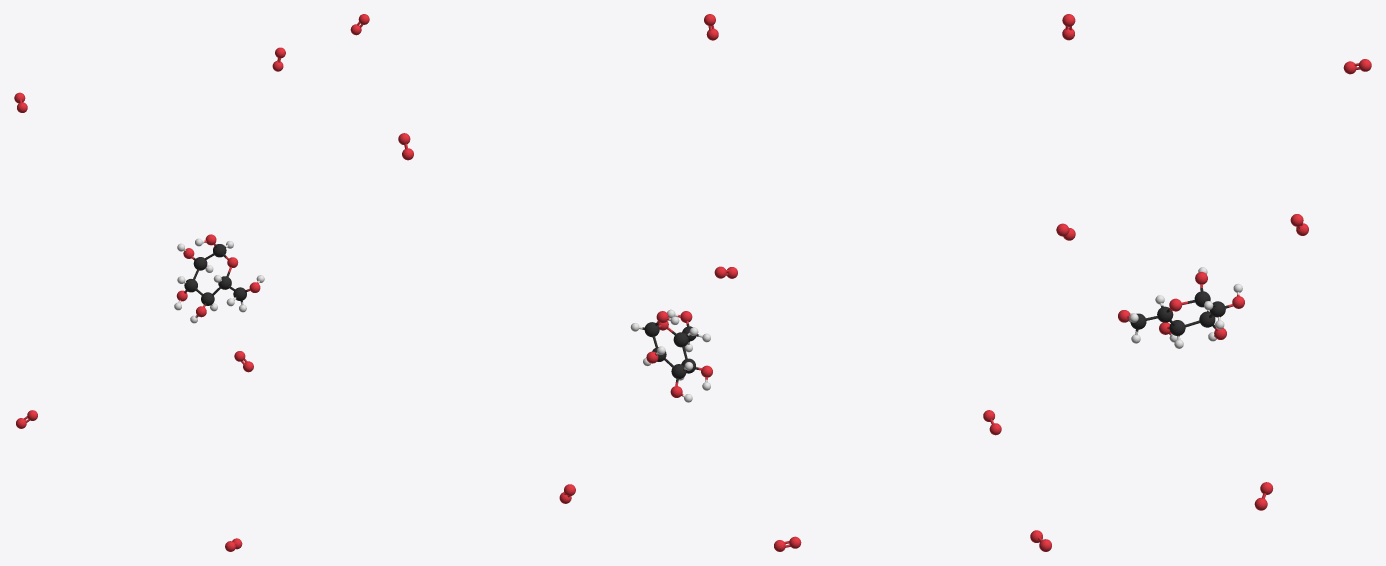
Rendered from breakGlucoseAnim.glb.
The picture shows the model from 3 angles, left to right: view 1: azimuth 30°, elevation 25°; view 2: azimuth 150°, elevation 25°; view 3: azimuth 270°, elevation 25°; orthographic projection. The views are drawn at different scales.
Bounding box in the file's own units: 94.82 × 97.02 × 52.9.
